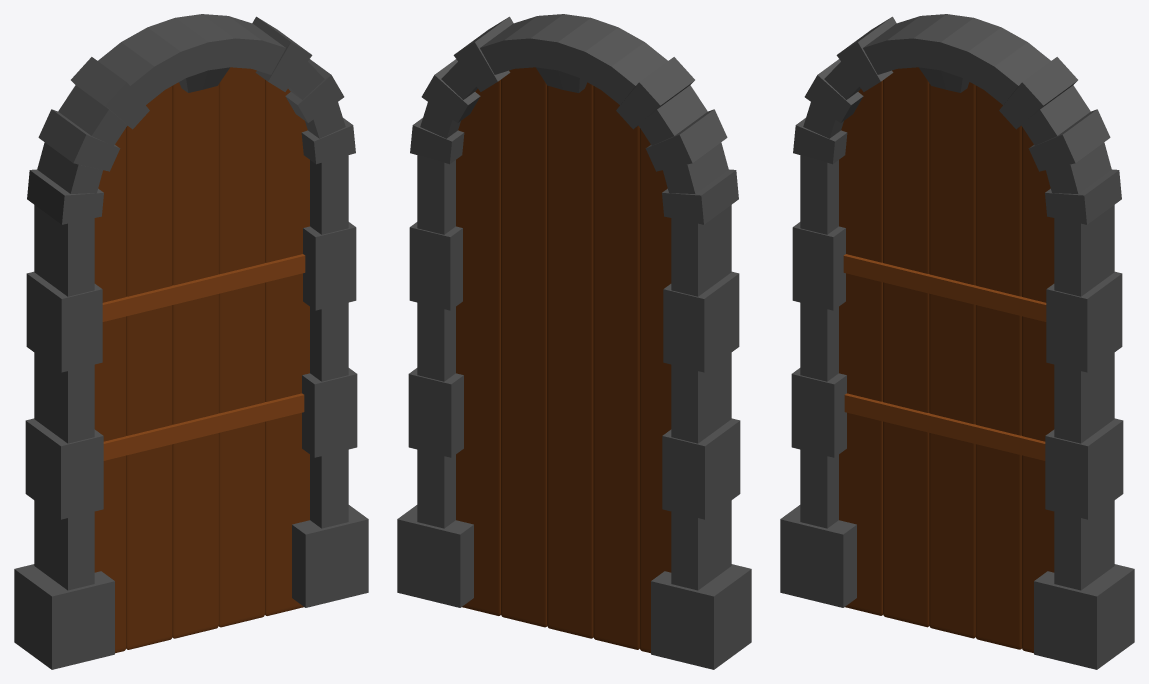
The model's file is exit.glb.
The picture shows the model from 3 angles, left to right: view 1: azimuth 30°, elevation 25°; view 2: azimuth 150°, elevation 25°; view 3: azimuth 330°, elevation 25°; orthographic projection.
Visible parts, largest first — view 1: Cube, Cylinder, Cube.002, Cube.001; view 2: Cube, Cylinder; view 3: Cube, Cylinder, Cube.002, Cube.001.
Boxes of the visible parts, x1,y1,x2,y2 form: Cube: (94, 67, 309, 653); Cylinder: (14, 14, 368, 669); Cube.002: (102, 254, 305, 321); Cube.001: (103, 393, 304, 460); Cube: (456, 67, 671, 653); Cylinder: (397, 14, 751, 669); Cube: (839, 67, 1054, 653); Cylinder: (780, 14, 1134, 669); Cube.002: (843, 254, 1046, 321); Cube.001: (844, 393, 1045, 460).
Size of the model in its own units: 2.82 by 5.11 by 0.5831.
